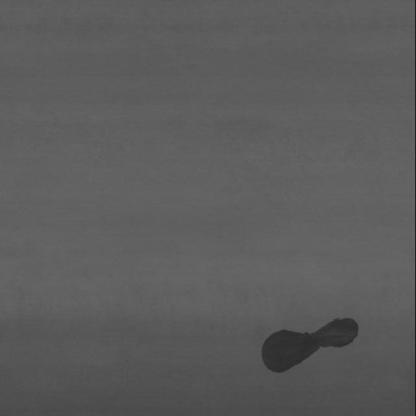oil_spot: (248, 317, 368, 374)
